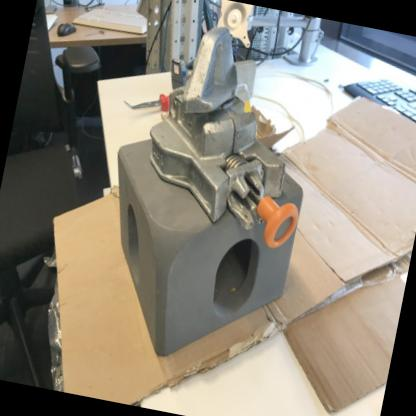CornerCasting: (72, 126, 314, 384)
Twistlock: (131, 7, 338, 254)
